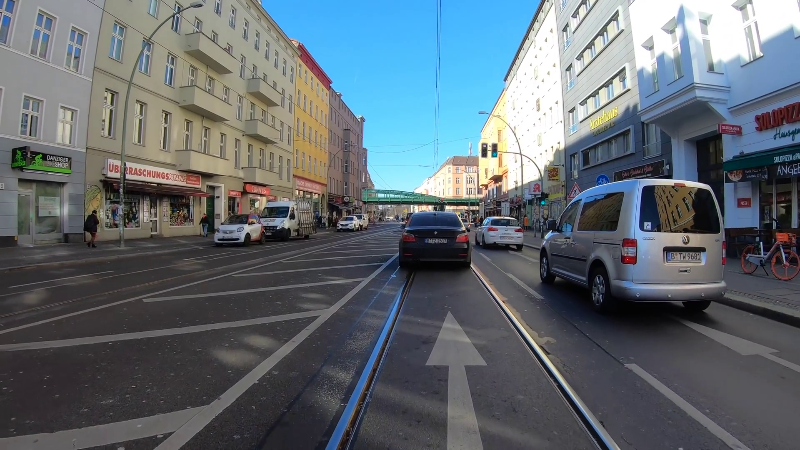Plate: (663, 249, 704, 261), (423, 237, 449, 244), (498, 235, 516, 241)
